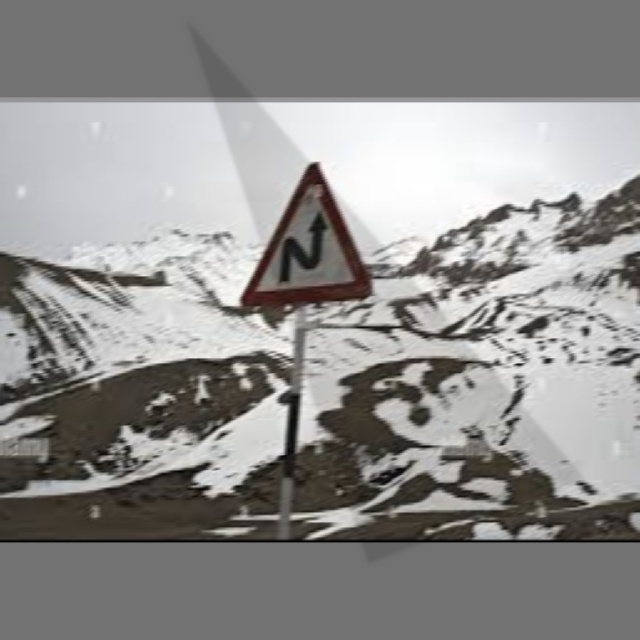Right_Reverse_Bend: (251, 163, 372, 312)
